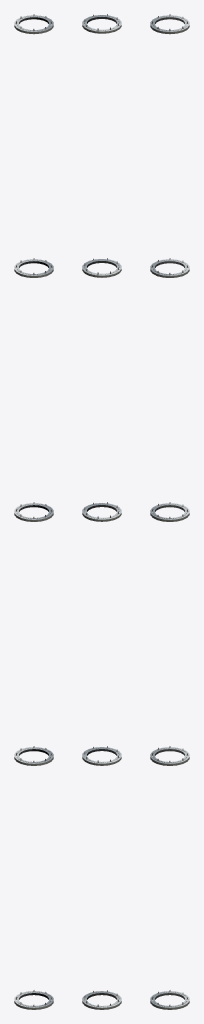
File: banzhiqu_neibumoxing_luoshuan_8.glb
3 renders of one model, left to right at view 1: azimuth 90°, elevation 25°; view 2: azimuth 210°, elevation 25°; view 3: azimuth 270°, elevation 25°, orthographic.
Visible parts, largest first — view 1: banzhiqu_neibumoxing_luoshuan_8_5, banzhiqu_neibumoxing_luoshuan_8_4, banzhiqu_neibumoxing_luoshuan_8_3, banzhiqu_neibumoxing_luoshuan_8_1, banzhiqu_neibumoxing_luoshuan_8_2; view 2: banzhiqu_neibumoxing_luoshuan_8_5, banzhiqu_neibumoxing_luoshuan_8_3, banzhiqu_neibumoxing_luoshuan_8_4, banzhiqu_neibumoxing_luoshuan_8_1, banzhiqu_neibumoxing_luoshuan_8_2; view 3: banzhiqu_neibumoxing_luoshuan_8_5, banzhiqu_neibumoxing_luoshuan_8_3, banzhiqu_neibumoxing_luoshuan_8_4, banzhiqu_neibumoxing_luoshuan_8_2, banzhiqu_neibumoxing_luoshuan_8_1.
Boxes of the visible parts, left/top/right/bottom form: banzhiqu_neibumoxing_luoshuan_8_5: left=14, top=990, right=53, bottom=1009; banzhiqu_neibumoxing_luoshuan_8_4: left=14, top=746, right=53, bottom=765; banzhiqu_neibumoxing_luoshuan_8_3: left=14, top=502, right=53, bottom=521; banzhiqu_neibumoxing_luoshuan_8_1: left=14, top=14, right=53, bottom=34; banzhiqu_neibumoxing_luoshuan_8_2: left=14, top=258, right=53, bottom=277; banzhiqu_neibumoxing_luoshuan_8_5: left=82, top=990, right=121, bottom=1009; banzhiqu_neibumoxing_luoshuan_8_3: left=82, top=502, right=121, bottom=521; banzhiqu_neibumoxing_luoshuan_8_4: left=82, top=746, right=121, bottom=765; banzhiqu_neibumoxing_luoshuan_8_1: left=82, top=14, right=121, bottom=33; banzhiqu_neibumoxing_luoshuan_8_2: left=82, top=258, right=121, bottom=277; banzhiqu_neibumoxing_luoshuan_8_5: left=150, top=990, right=189, bottom=1009; banzhiqu_neibumoxing_luoshuan_8_3: left=150, top=502, right=189, bottom=521; banzhiqu_neibumoxing_luoshuan_8_4: left=150, top=746, right=189, bottom=765; banzhiqu_neibumoxing_luoshuan_8_2: left=150, top=258, right=189, bottom=277; banzhiqu_neibumoxing_luoshuan_8_1: left=150, top=14, right=189, bottom=34.
Bounding box in the file's own units: 255 × 6928 × 251.
Materials: 1 (1 with a texture image).
